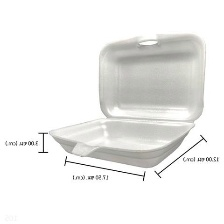foam_box: (45, 27, 212, 171)
